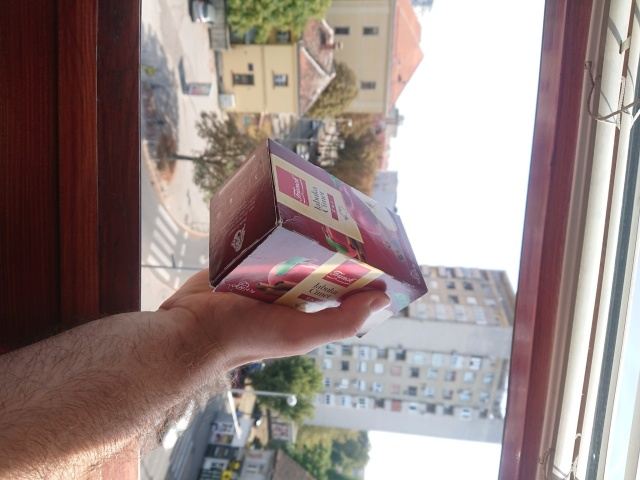Franck Apple Cinnamon Tea 60g: (206, 135, 431, 340)
